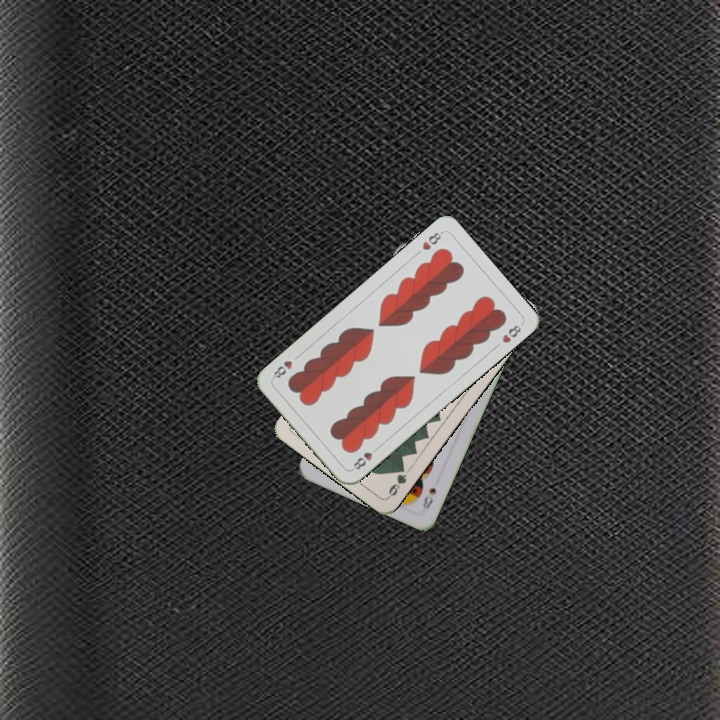G9: (384, 461, 409, 500)
H8: (349, 442, 382, 473), (418, 227, 446, 253)
S8: (419, 484, 439, 513)
